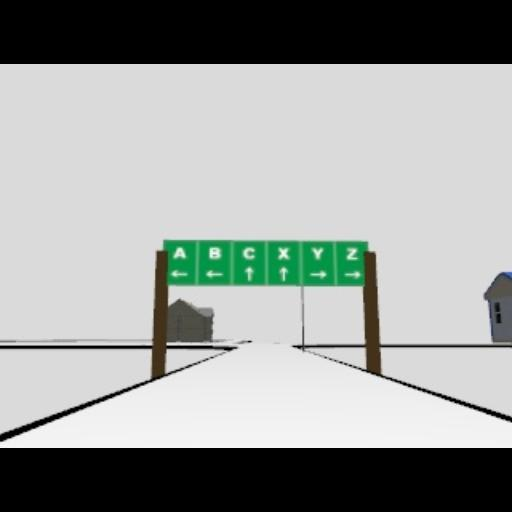A: (172, 246, 188, 260)
B: (208, 246, 222, 260)
C: (241, 246, 255, 260)
Left: (204, 269, 224, 279), (170, 269, 188, 279)
Right: (308, 269, 328, 281), (343, 270, 361, 280)
Straight: (278, 266, 290, 282), (244, 266, 254, 282)
X: (277, 246, 291, 260)
Y: (311, 246, 325, 260)
Z: (346, 247, 358, 261)
